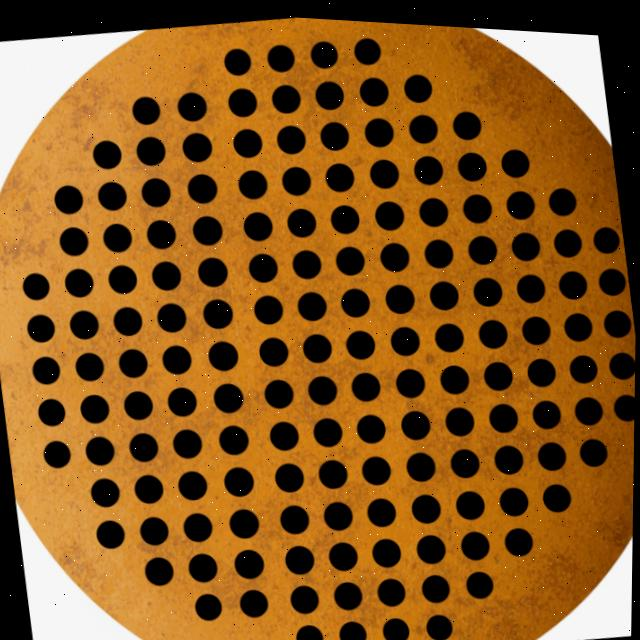Hole: (547, 215, 588, 258), (107, 345, 151, 384), (254, 331, 298, 370), (562, 340, 601, 383), (373, 277, 418, 314), (496, 480, 533, 524), (28, 353, 63, 399), (200, 336, 242, 374), (293, 328, 336, 365), (552, 259, 591, 299), (371, 235, 413, 272), (382, 319, 423, 356), (247, 289, 288, 326), (396, 403, 435, 441), (499, 517, 538, 555), (263, 78, 303, 115), (242, 247, 282, 284), (209, 378, 249, 415), (196, 294, 236, 331), (17, 264, 53, 305), (137, 512, 172, 554), (215, 420, 253, 458), (193, 252, 232, 289), (87, 133, 124, 172), (172, 85, 212, 121), (309, 411, 345, 451), (605, 377, 636, 423), (226, 503, 263, 541), (407, 486, 444, 524), (462, 560, 500, 597), (527, 390, 563, 429), (353, 70, 392, 106), (320, 494, 355, 534), (443, 397, 478, 437), (368, 529, 403, 569), (374, 570, 409, 610), (375, 605, 415, 640), (262, 36, 296, 77), (124, 429, 161, 466), (364, 152, 402, 188), (464, 226, 500, 264), (50, 180, 86, 218), (587, 215, 625, 251), (359, 110, 397, 146), (369, 193, 407, 229), (391, 362, 429, 398), (260, 374, 298, 410), (312, 454, 351, 489), (454, 481, 488, 521), (142, 550, 176, 590), (276, 159, 313, 195), (485, 395, 522, 431), (287, 244, 324, 280), (266, 416, 302, 453), (119, 387, 156, 423), (475, 311, 511, 348), (236, 585, 273, 621), (303, 370, 340, 406), (93, 518, 130, 554), (571, 387, 607, 424), (218, 39, 254, 76), (183, 169, 221, 204), (598, 300, 636, 335), (231, 544, 269, 579), (147, 256, 182, 294), (127, 88, 162, 126), (493, 140, 531, 175), (177, 127, 216, 161), (188, 212, 227, 246), (593, 258, 632, 292), (401, 446, 440, 480), (103, 261, 139, 297), (505, 223, 541, 259), (61, 265, 97, 301), (93, 177, 129, 213), (83, 433, 119, 469), (72, 349, 108, 385), (224, 82, 260, 118), (453, 143, 489, 179), (109, 303, 145, 339), (511, 265, 547, 301), (346, 366, 382, 402), (448, 102, 484, 138), (397, 64, 433, 100), (234, 164, 271, 199), (88, 475, 125, 510), (158, 341, 193, 378), (333, 239, 368, 276), (282, 202, 319, 237), (292, 286, 329, 321), (479, 354, 516, 389), (541, 474, 576, 511), (366, 490, 400, 528), (355, 407, 389, 445), (22, 307, 56, 345), (190, 587, 224, 625), (459, 521, 492, 560), (220, 464, 259, 497), (138, 173, 173, 209), (516, 308, 552, 343), (277, 501, 313, 536), (421, 231, 456, 267), (56, 223, 92, 258), (410, 147, 445, 183), (427, 273, 462, 309), (501, 181, 536, 217), (163, 383, 198, 419), (348, 30, 384, 65), (152, 299, 187, 335), (413, 527, 450, 561), (433, 315, 467, 352), (417, 566, 454, 600), (523, 350, 560, 384), (490, 438, 527, 472), (324, 199, 361, 233), (41, 436, 75, 473), (406, 104, 439, 142), (99, 219, 134, 254), (272, 118, 307, 153), (577, 430, 612, 465), (325, 535, 359, 571), (422, 606, 458, 640), (283, 539, 319, 573), (171, 425, 205, 461), (319, 156, 353, 192), (185, 548, 219, 584), (309, 73, 345, 107), (560, 303, 594, 339), (342, 324, 376, 360), (174, 467, 208, 503), (458, 186, 494, 220), (272, 459, 308, 493), (416, 189, 450, 225), (469, 270, 505, 304), (305, 34, 339, 70), (544, 177, 578, 213), (182, 509, 216, 544), (32, 393, 66, 428), (602, 342, 636, 377), (336, 282, 370, 317), (287, 578, 323, 611), (229, 123, 265, 156), (77, 392, 113, 425), (67, 308, 103, 341), (240, 207, 276, 240), (535, 434, 569, 468), (438, 358, 472, 392), (144, 216, 178, 250), (331, 573, 364, 608), (449, 440, 481, 476), (132, 472, 166, 505), (317, 115, 351, 148), (360, 451, 394, 484), (133, 134, 167, 165), (337, 614, 372, 640), (292, 618, 328, 640)
